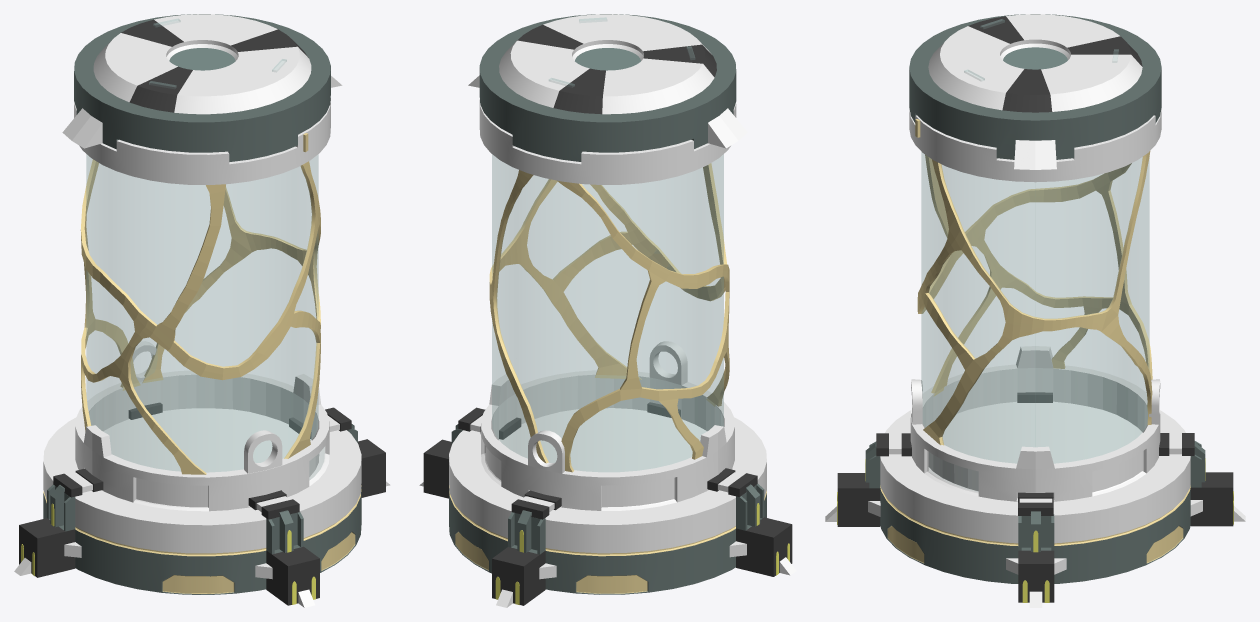
File: Gr_Assets_04.fbx
The picture shows the model from 3 angles, left to right: view 1: azimuth 30°, elevation 25°; view 2: azimuth 150°, elevation 25°; view 3: azimuth 270°, elevation 25°; orthographic projection.
Parts seen in each view (by area): view 1: No_bevel_color1_Male_Base_SDiv1_Group47441; view 2: No_bevel_color1_Male_Base_SDiv1_Group47441; view 3: No_bevel_color1_Male_Base_SDiv1_Group47441.
Part boxes in pixels (<box>): No_bevel_color1_Male_Base_SDiv1_Group47441: <box>14,14,390,607</box>; No_bevel_color1_Male_Base_SDiv1_Group47441: <box>419,14,796,607</box>; No_bevel_color1_Male_Base_SDiv1_Group47441: <box>825,14,1245,607</box>.
Size of the model in its own units: 446 by 546 by 446.
